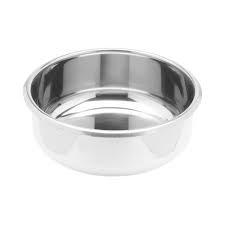Sponge Bowl: (23, 45, 205, 178)
